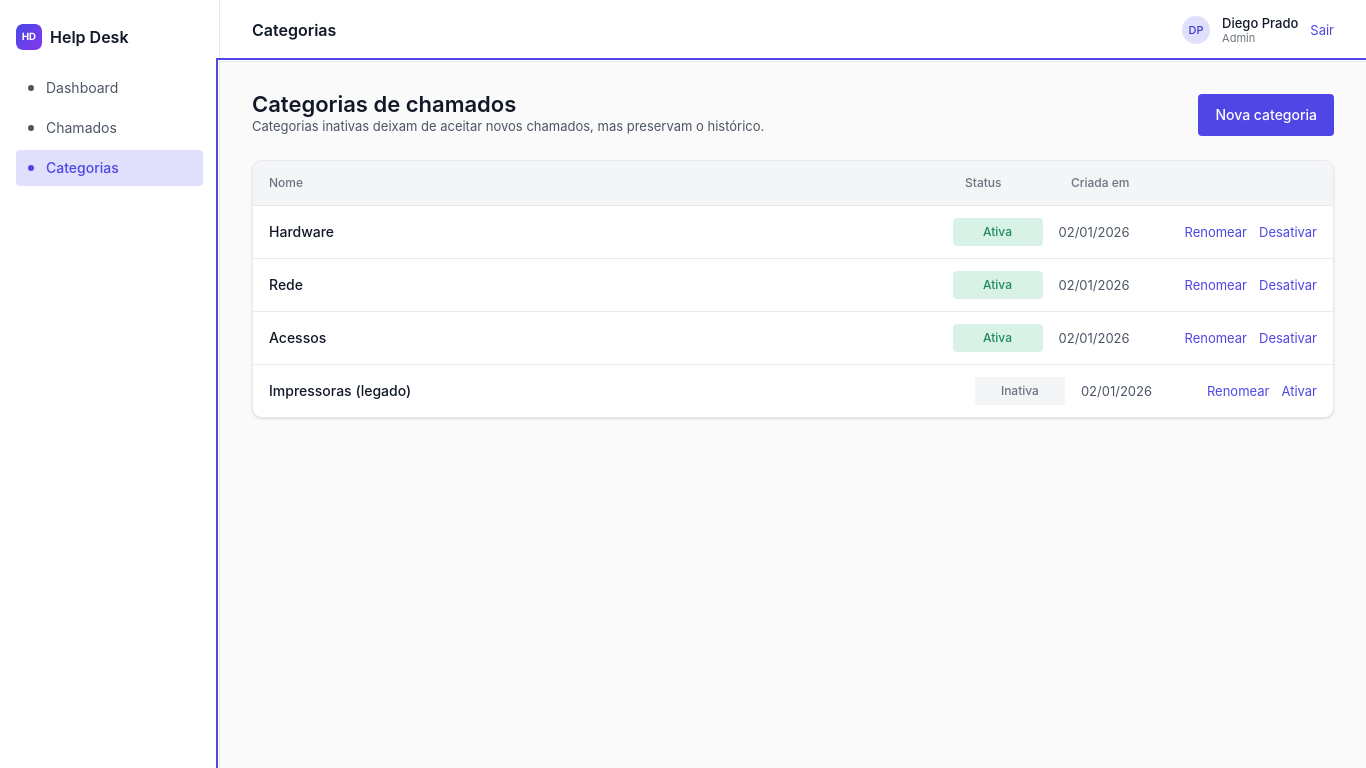
Scenario: CategoriesAdminPage — Admin › mostra conflito 409 ao criar categoria com nome duplicado
expect the text "Hardware" is shown: met, box [269, 223, 334, 240]
Click the button "Nova categoria": point(1266, 115) [1198, 94, 1334, 136]
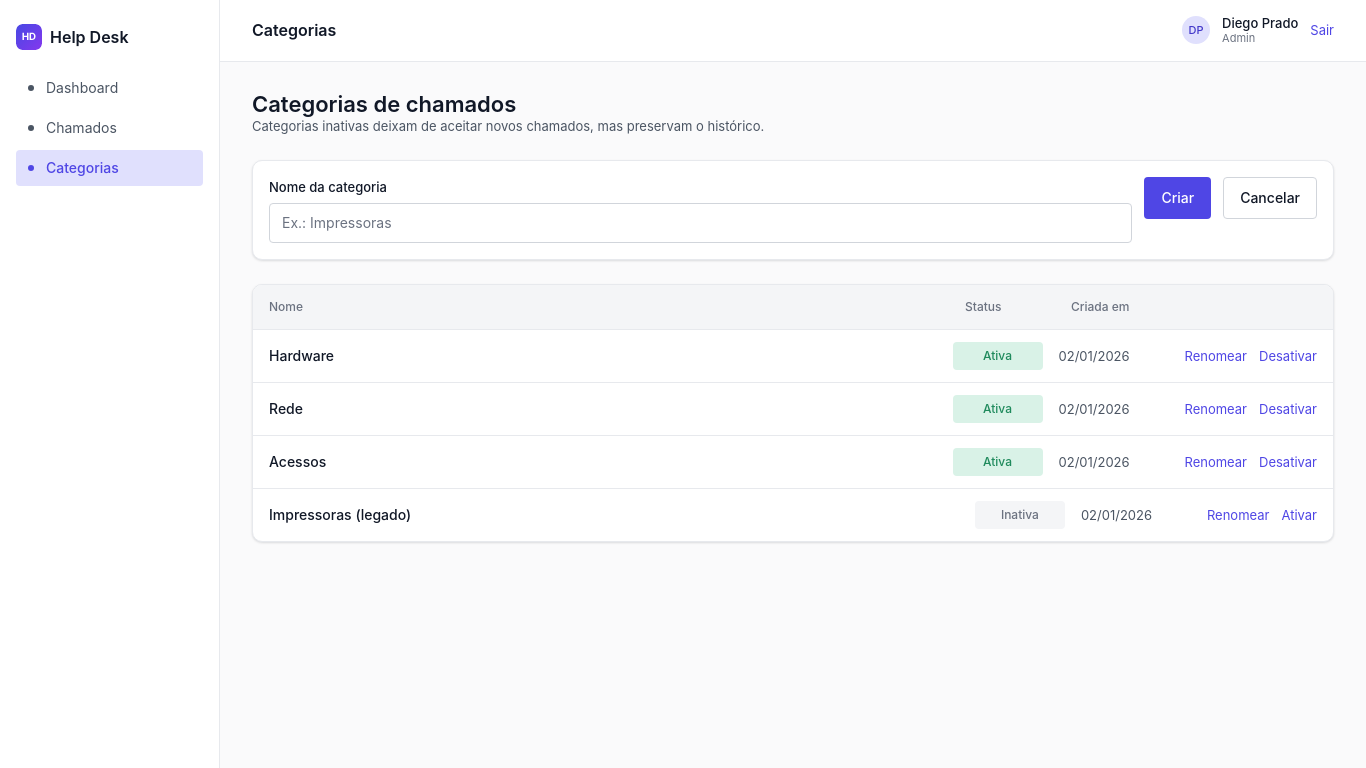
In the field labelled "Nome da categoria": point(701, 223) [269, 203, 1132, 243], type "Hardware"
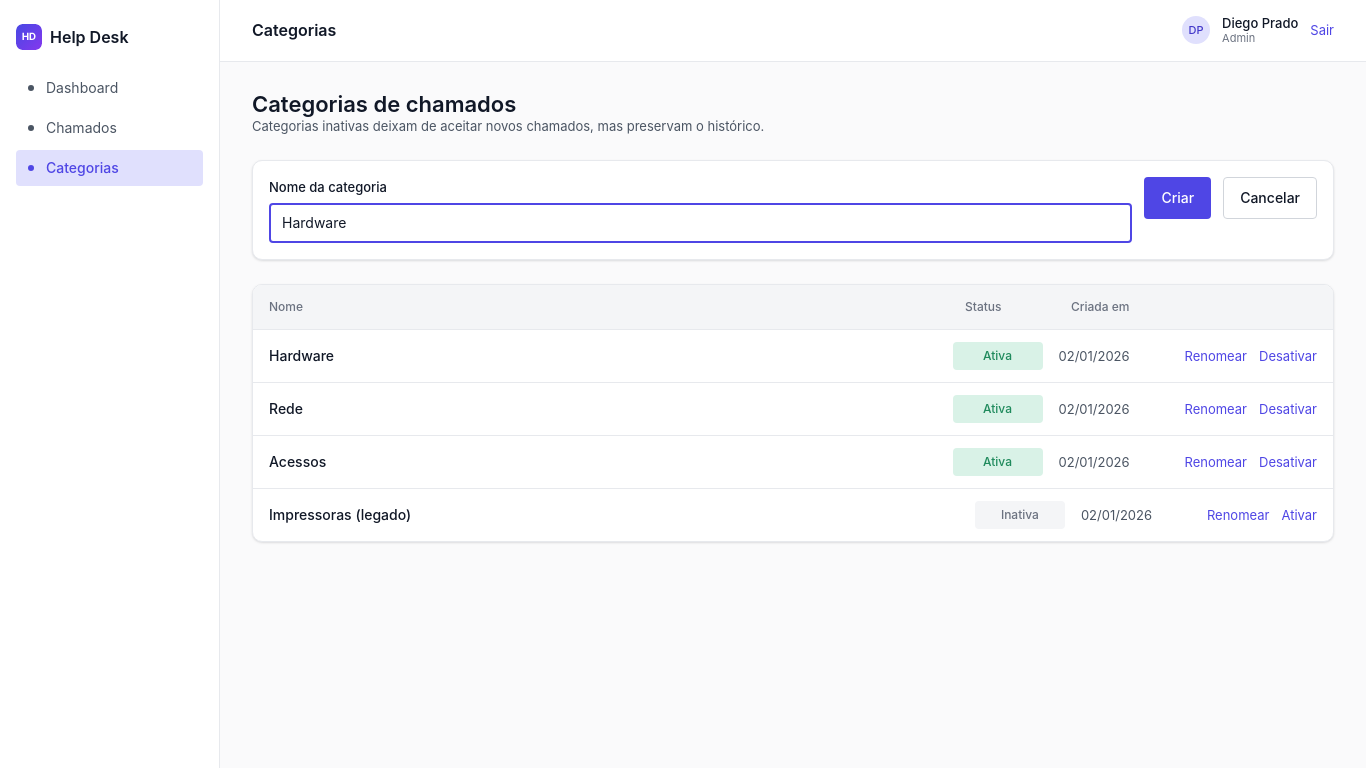
Click the button "Criar": point(1178, 198) [1144, 177, 1211, 219]
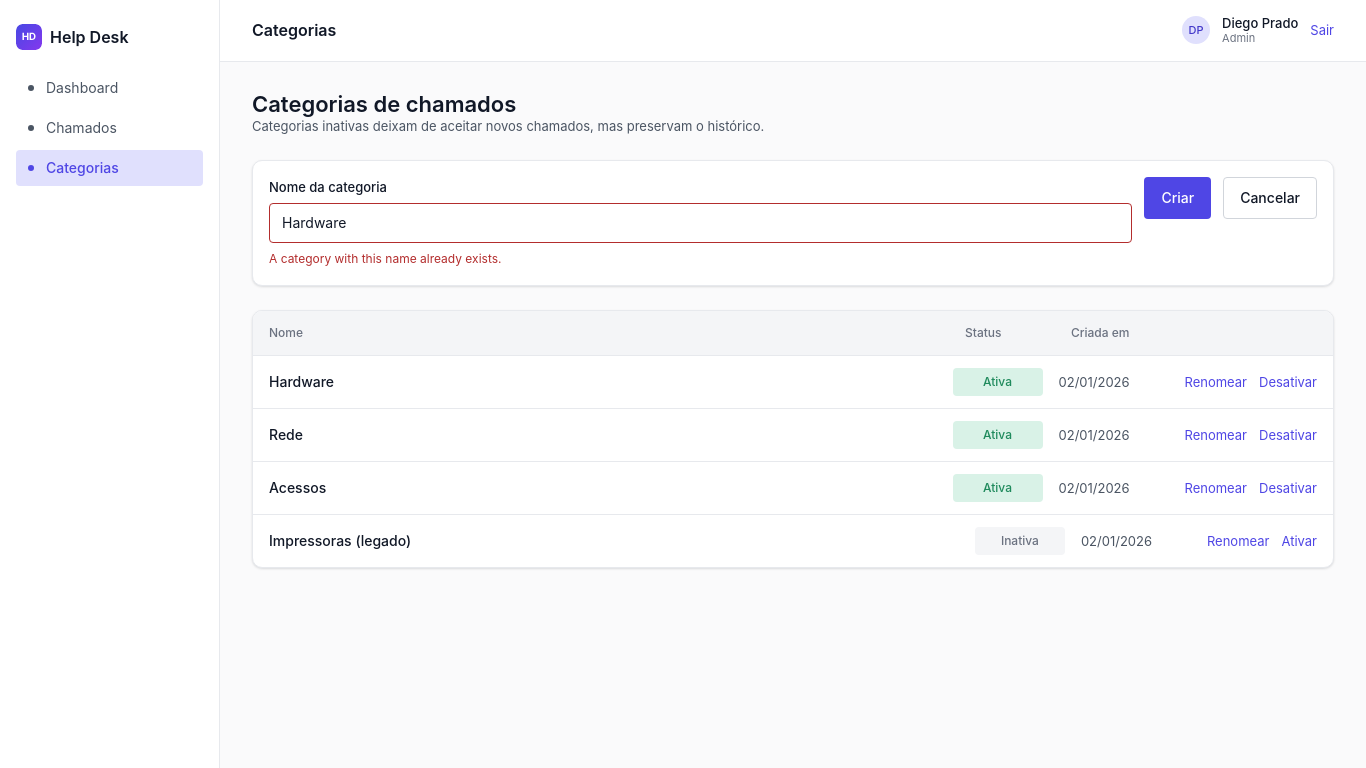
expect the text "A category with this name already exists." is shown: met, box [269, 251, 502, 266]
